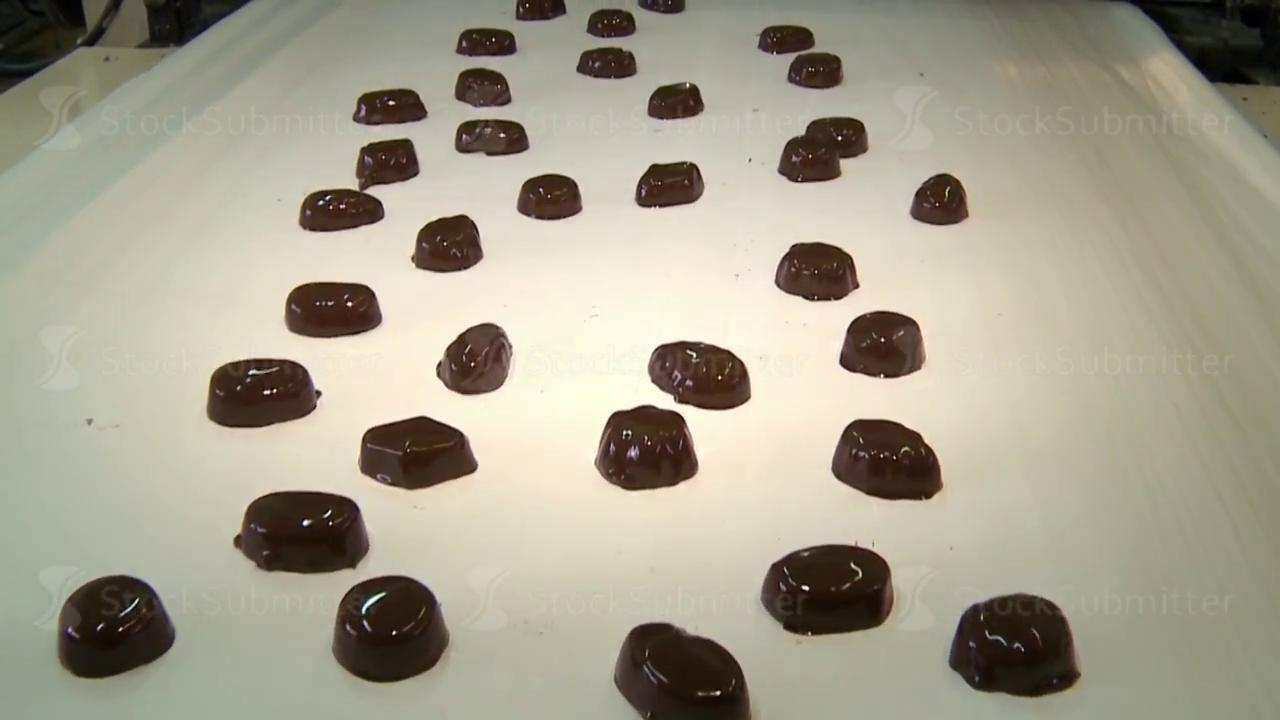chocolate: (948, 592, 1080, 697), (613, 621, 751, 718), (331, 574, 450, 682), (57, 573, 175, 678), (760, 543, 894, 635), (233, 490, 369, 573), (831, 418, 942, 500), (358, 415, 478, 489), (594, 404, 697, 490), (206, 357, 320, 427), (648, 340, 751, 409), (840, 310, 925, 378), (436, 322, 513, 394), (285, 281, 381, 337), (774, 241, 859, 301), (412, 214, 482, 272), (299, 188, 384, 231), (635, 160, 704, 208), (356, 137, 419, 188), (517, 173, 582, 220), (778, 134, 841, 182), (911, 173, 968, 225), (455, 118, 529, 155), (352, 88, 427, 124), (806, 116, 868, 156), (455, 67, 511, 107), (648, 81, 704, 119), (788, 52, 842, 88), (577, 46, 636, 78), (456, 27, 516, 56), (758, 24, 814, 54), (586, 8, 635, 37)
